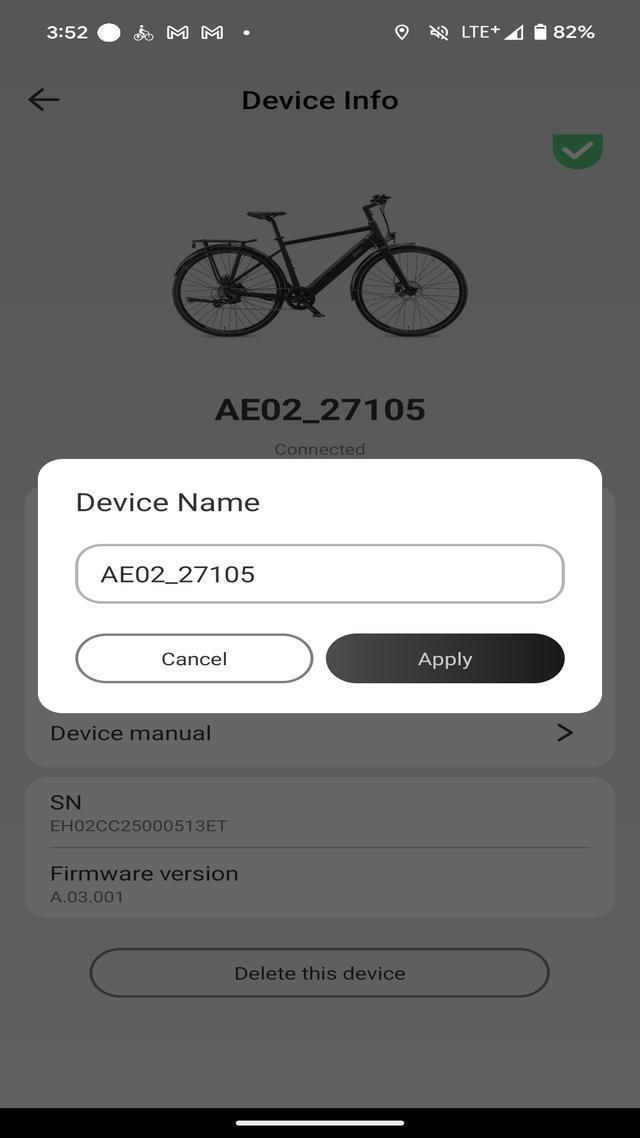ASCII: (532, 18, 548, 44)
Icon: (552, 130, 604, 170), (458, 22, 526, 44), (28, 87, 62, 121), (130, 22, 156, 46), (161, 23, 193, 42), (196, 22, 226, 42), (555, 722, 575, 747), (428, 22, 451, 43), (98, 24, 121, 44), (392, 21, 413, 41), (534, 23, 548, 45), (241, 24, 250, 42)
Image: (156, 185, 492, 349)
Text: (207, 392, 433, 428), (67, 487, 266, 524), (92, 559, 258, 593), (238, 83, 401, 116), (46, 861, 244, 885), (229, 962, 412, 985), (44, 815, 234, 837), (42, 721, 218, 744), (44, 886, 131, 910), (153, 646, 234, 670), (416, 646, 480, 675), (42, 20, 90, 44), (44, 790, 90, 813), (550, 22, 596, 42)
TextButton: (72, 542, 567, 607), (88, 946, 550, 998), (324, 632, 567, 686), (76, 631, 315, 684)
